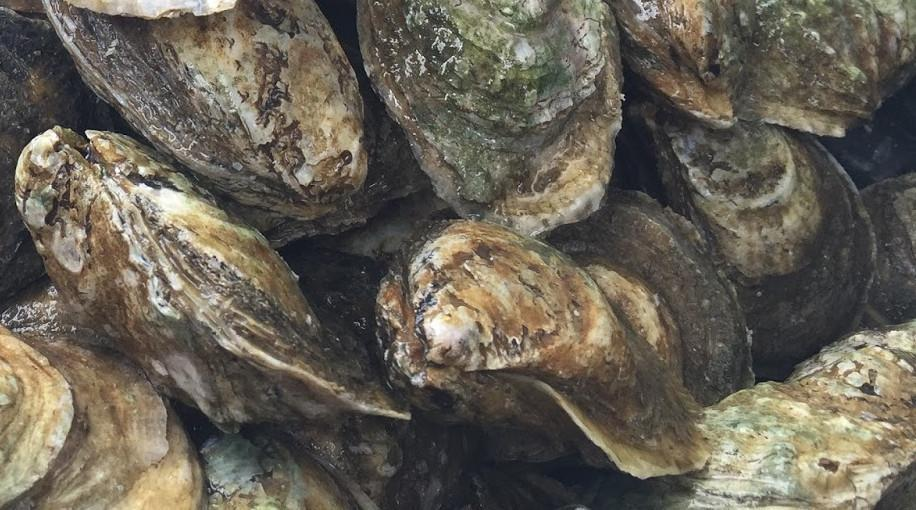Oyster-Closed: (14, 127, 412, 430), (399, 219, 708, 478), (0, 325, 75, 508)
Oyster-Open: (381, 184, 754, 461), (42, 0, 367, 221), (630, 101, 875, 380), (356, 0, 622, 238), (623, 318, 916, 510), (607, 0, 916, 137), (0, 333, 202, 510), (0, 8, 114, 304), (191, 424, 381, 510), (263, 417, 399, 510), (860, 169, 916, 329), (63, 0, 241, 18)
